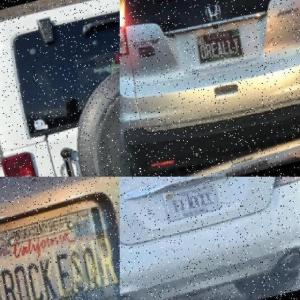Plate: (0, 207, 119, 300), (164, 178, 224, 221), (197, 25, 246, 64)
